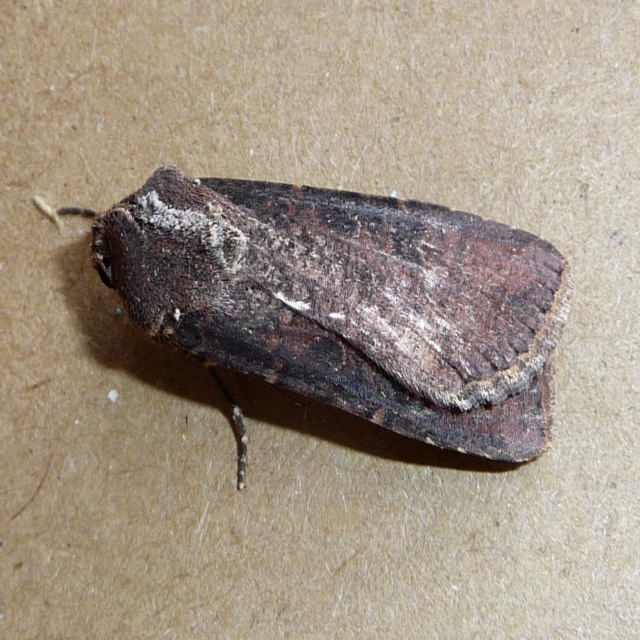Moths and butterflies: (32, 162, 572, 488)
